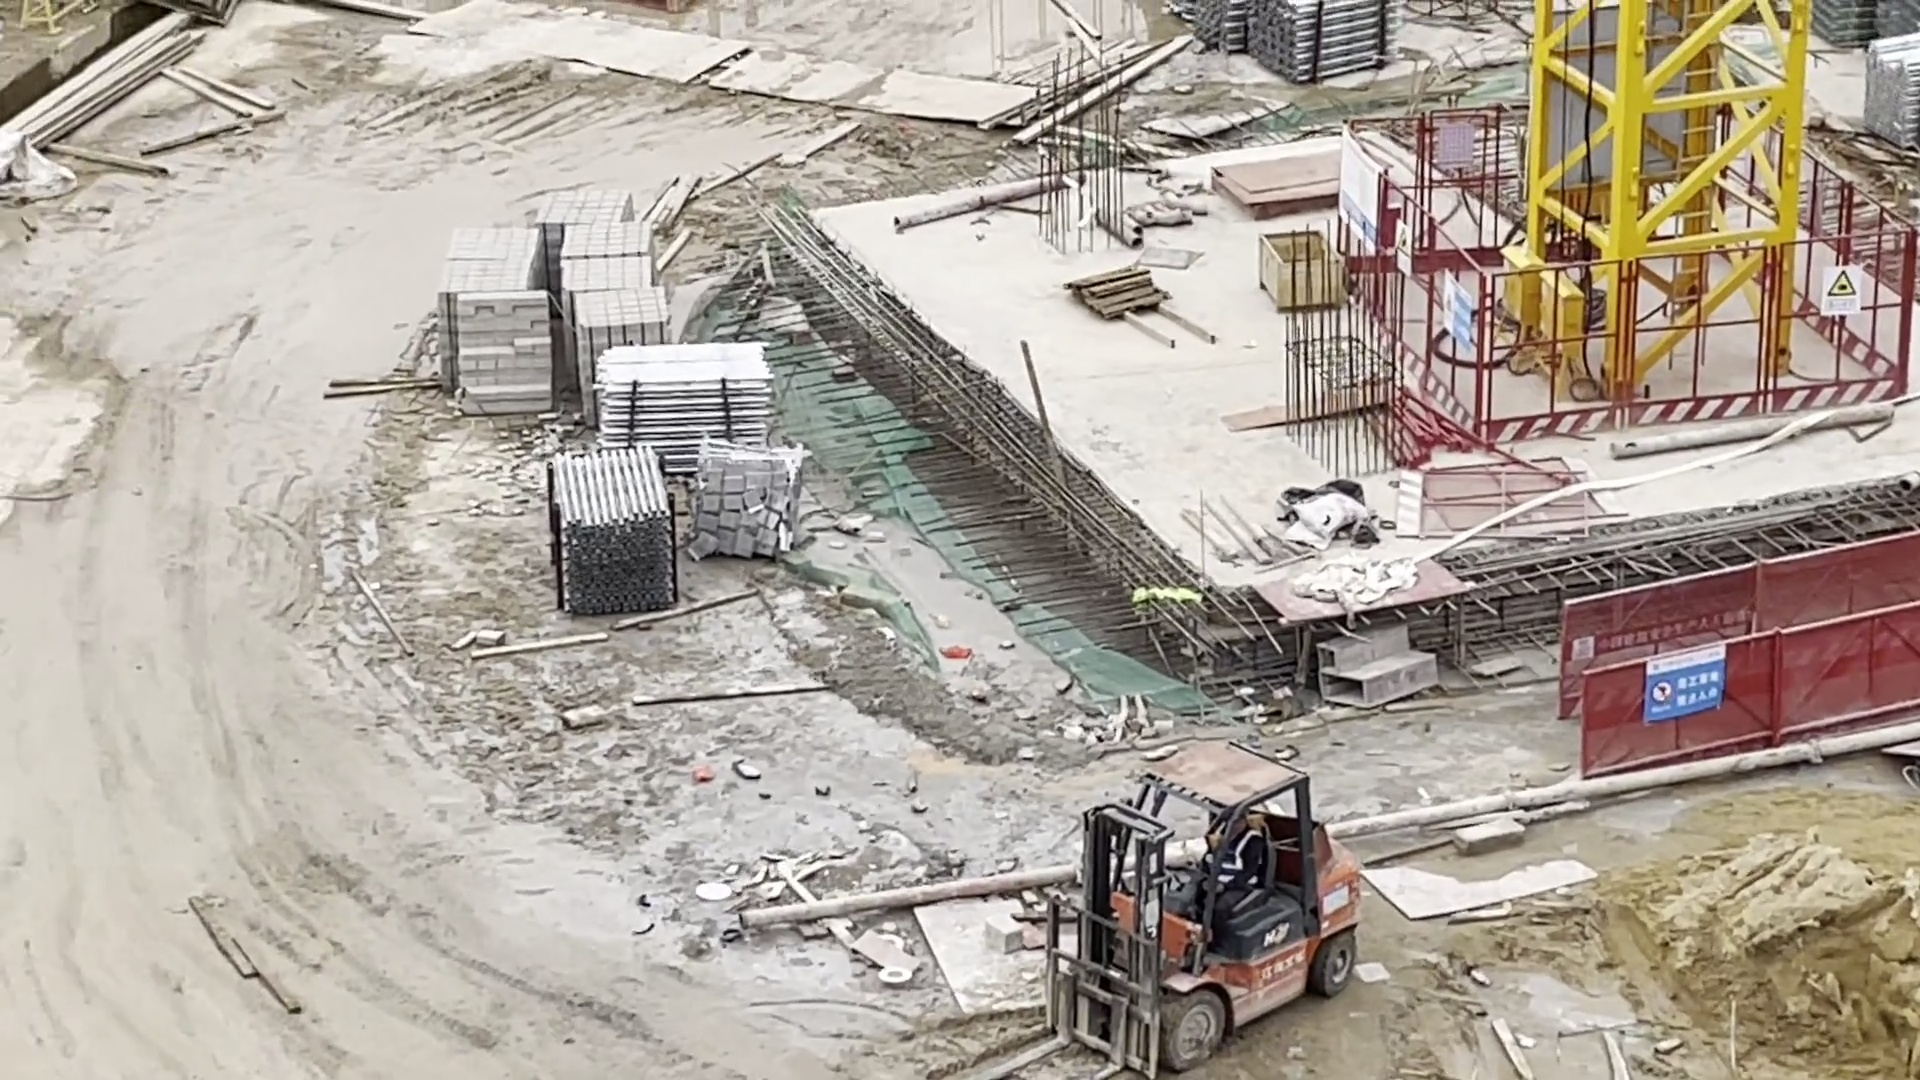brick: (434, 182, 692, 415)
ebox: (1491, 243, 1594, 363)
fence: (1557, 518, 1920, 804), (1487, 241, 1913, 465), (1720, 111, 1913, 419), (1323, 123, 1502, 446), (1352, 94, 1618, 277)
hopper: (1249, 228, 1345, 319)
scaffold: (549, 442, 680, 626), (591, 342, 781, 468), (1164, 3, 1422, 92), (1817, 1, 1920, 145)
slogan: (1626, 636, 1749, 738), (1335, 141, 1391, 257), (1433, 270, 1484, 355), (1385, 211, 1419, 295)
